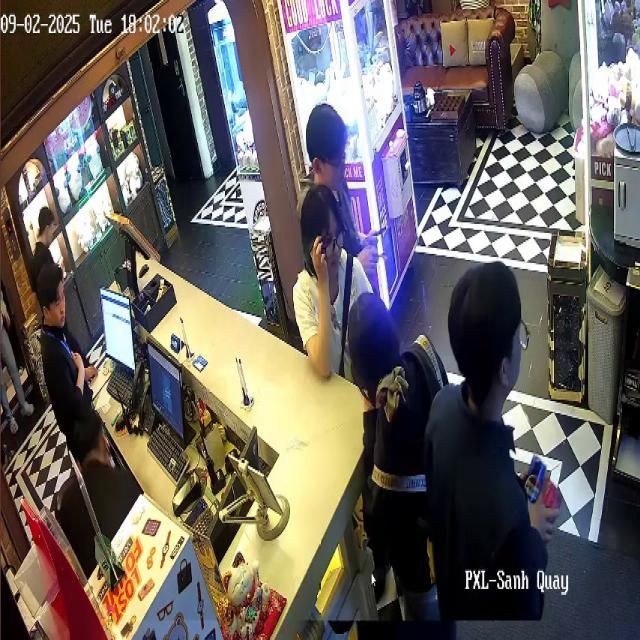khach: (423, 253, 564, 633), (347, 287, 454, 621), (295, 81, 390, 276), (292, 179, 372, 405), (25, 185, 92, 355), (0, 231, 37, 437)
nhan vien: (58, 417, 147, 584), (35, 258, 98, 445)
